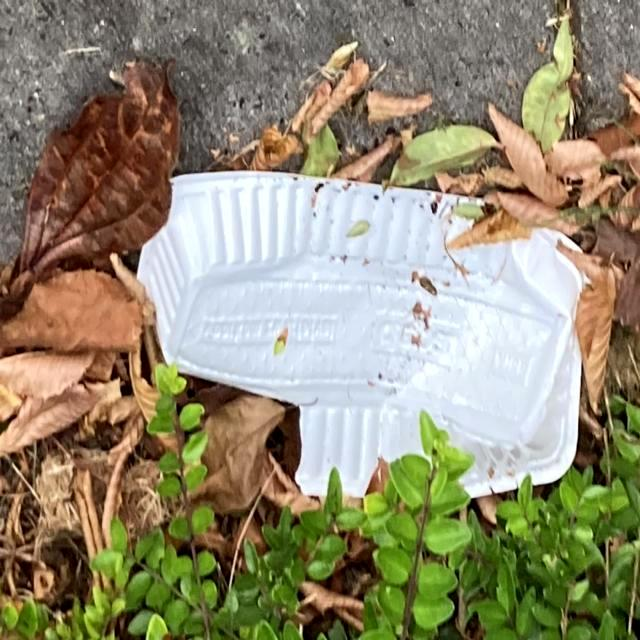Plastic: (134, 167, 592, 501)
